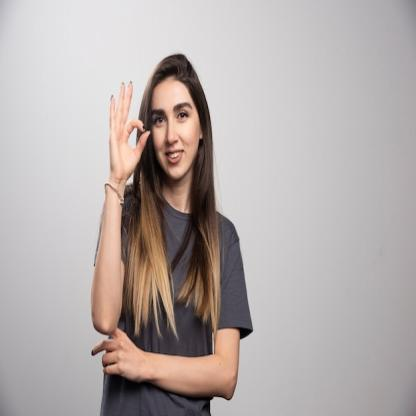ok: (107, 79, 152, 182)
